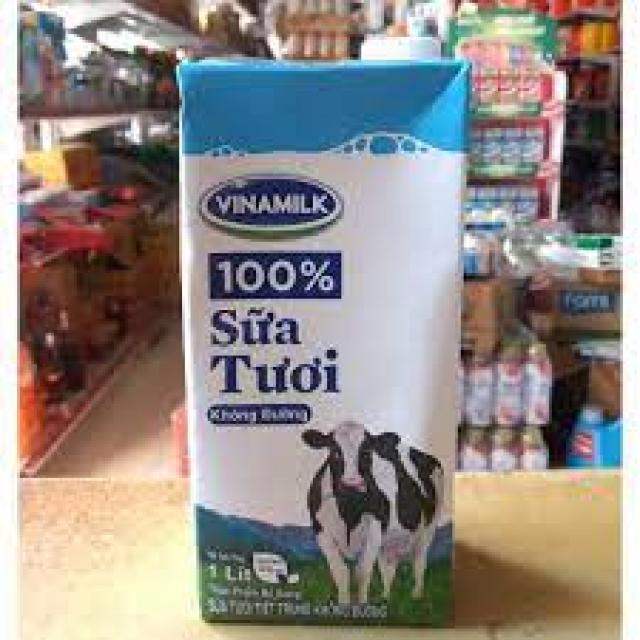non_white_jug: (153, 23, 480, 606)
